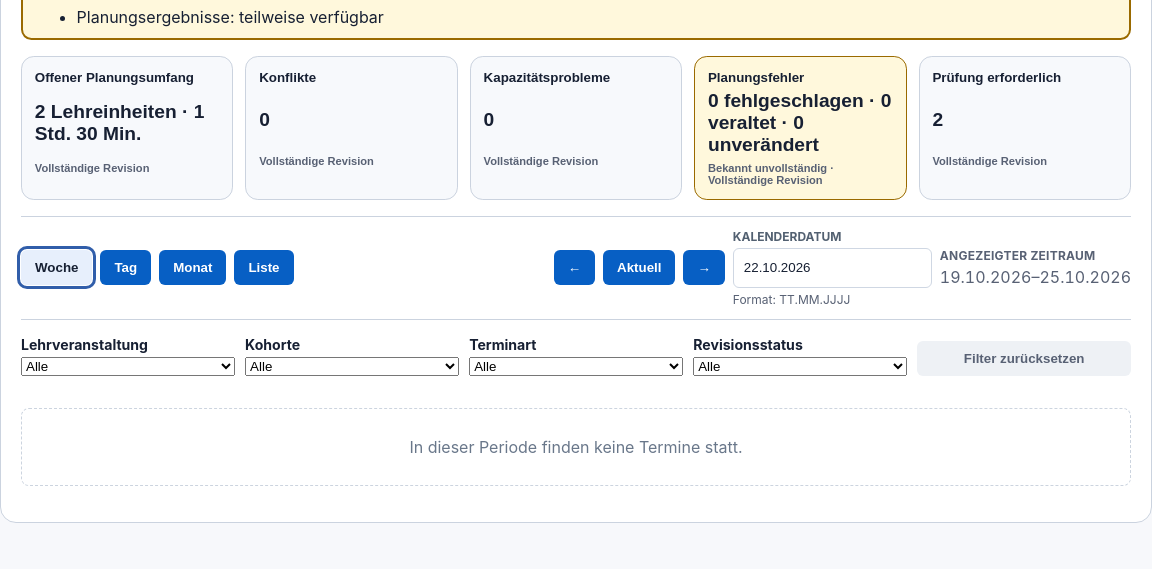
Test: CalendarPlanningWorkspace › reconciles open drilldown contributors when filters change
Click the button with class "summary-card" that starts with "Prüfung erforderlich".
click(1025, 128)  # box x1=919 y1=56 x2=1131 y2=200
(page scrolled)
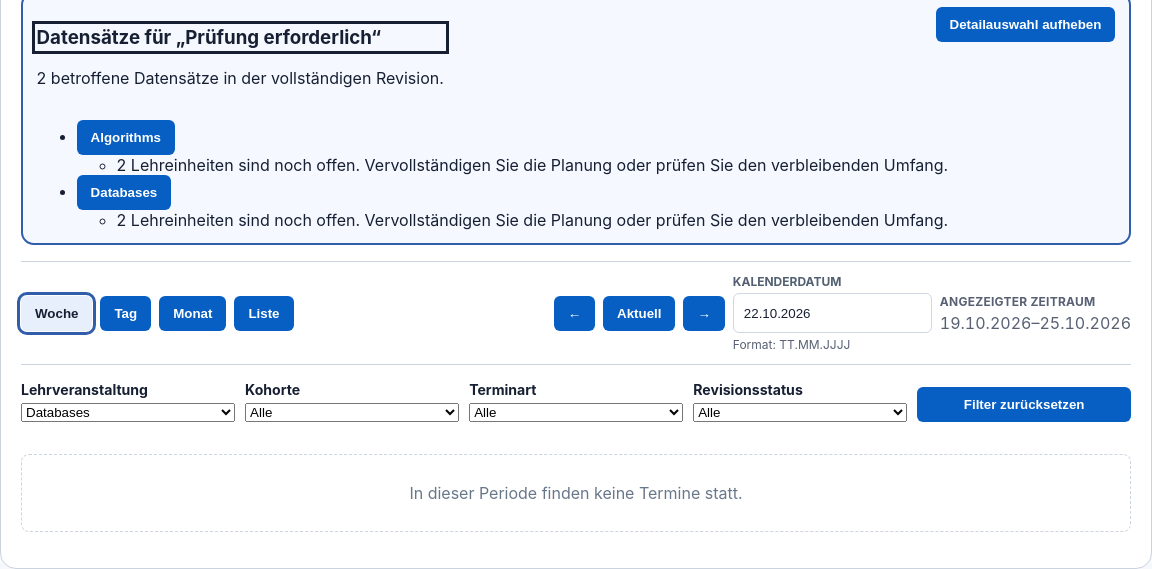
Result: the element with class "workspace-drilldown" shows "Algorithms" at x1=77 y1=120 x2=175 y2=155
Result: the element with class "workspace-drilldown" shows "Databases" at x1=77 y1=175 x2=171 y2=210
Select "Databases" in the dropdown labelled "Lehrveranstaltung" at (128, 412), box x1=21 y1=403 x2=235 y2=422
(page scrolled)
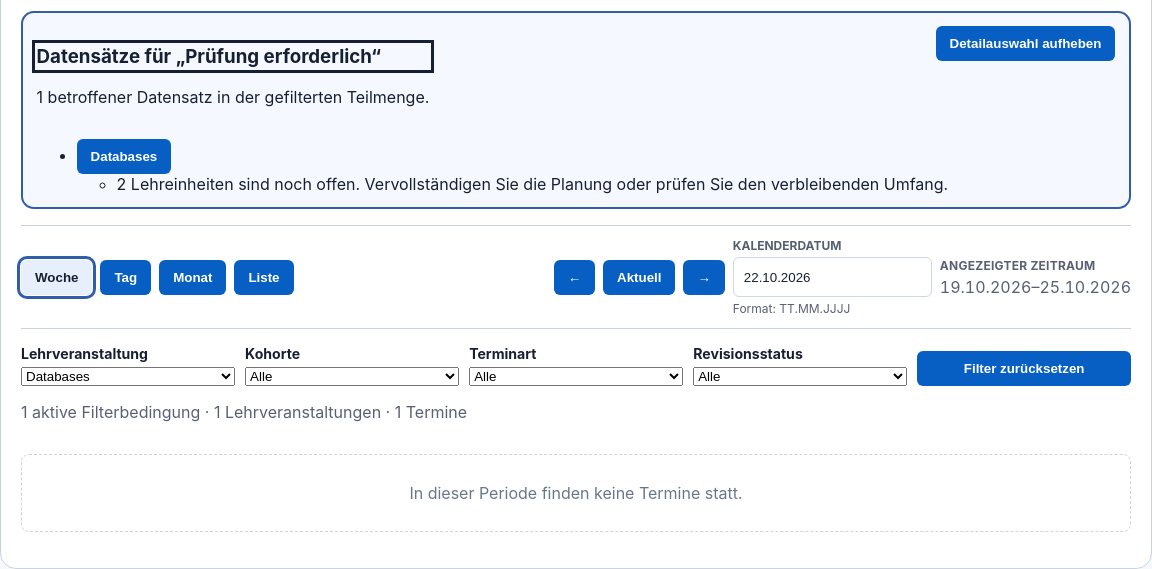
Result: the element with class "workspace-drilldown" shows "Databases" at x1=77 y1=139 x2=171 y2=174
Result: the element with class "workspace-drilldown" shows "1 betroffener Datensatz in der gefilterten Teilmenge" at x1=21 y1=11 x2=1131 y2=209
Result: the button with class "workspace-drilldown" no longer shows "Algorithms"
